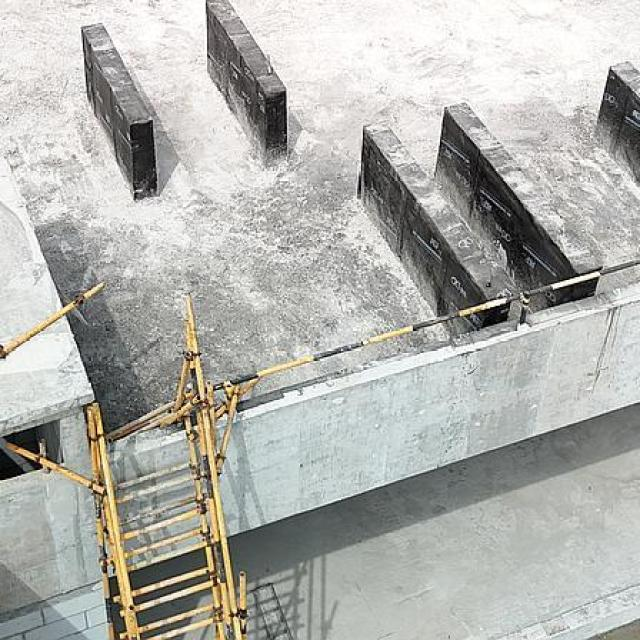edge_guardrail: (213, 257, 640, 393), (0, 279, 110, 361)
